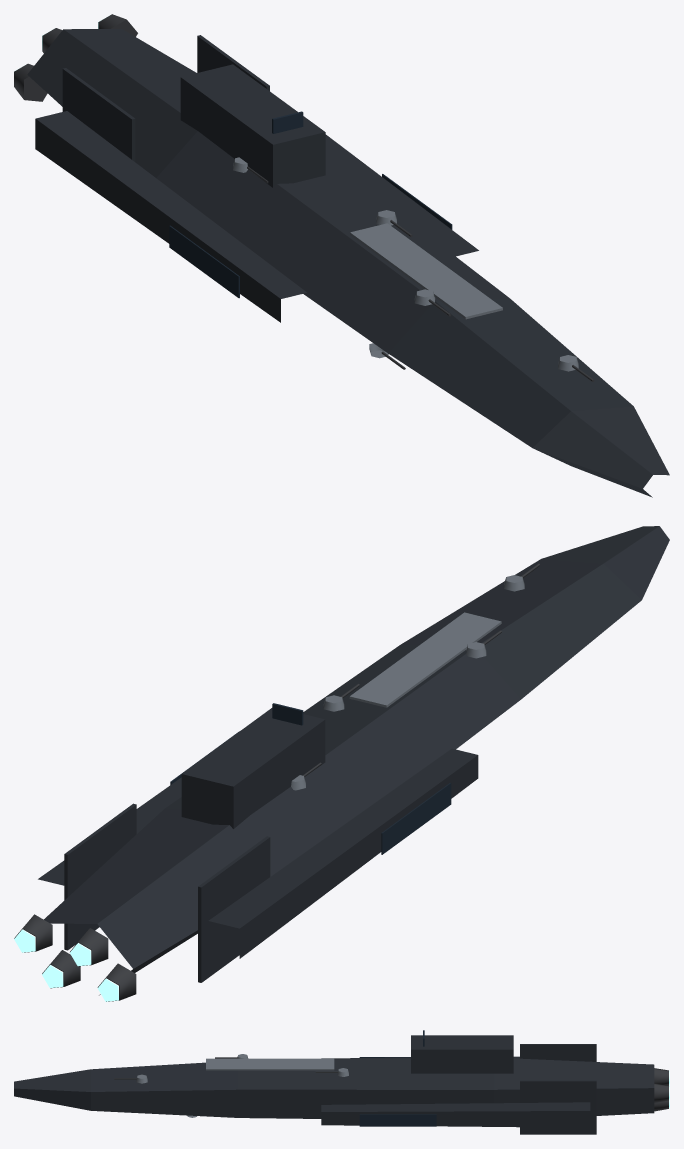
Rendered from space_ship_cruiser_mk4_lod1.glb.
The picture shows the model from 3 angles, top to bottom: view 1: azimuth 30°, elevation 25°; view 2: azimuth 150°, elevation 25°; view 3: azimuth 270°, elevation 25°; orthographic projection. The views are drawn at different scales.
Parts seen in each view (by area): view 1: body, hangar_r, engine_0; view 2: body, hangar_r, engine_0, engine_1, engine_3, engine_2; view 3: body, hangar_l, engine_3, engine_1.
Boxes of the visible parts, x1,y1,x2,y2 form: body: (27, 29, 669, 497); hangar_r: (169, 225, 239, 298); engine_0: (14, 63, 47, 101); body: (38, 526, 669, 995); hangar_r: (381, 783, 451, 854); engine_0: (97, 963, 136, 1001); engine_1: (69, 928, 108, 966); engine_3: (14, 914, 52, 952); engine_2: (42, 950, 80, 988); body: (14, 1030, 654, 1134); hangar_l: (359, 1114, 436, 1126); engine_3: (654, 1083, 669, 1102); engine_1: (654, 1068, 669, 1085).
Bounding box in the file's own units: 18.56 × 12.2 × 89.16.
